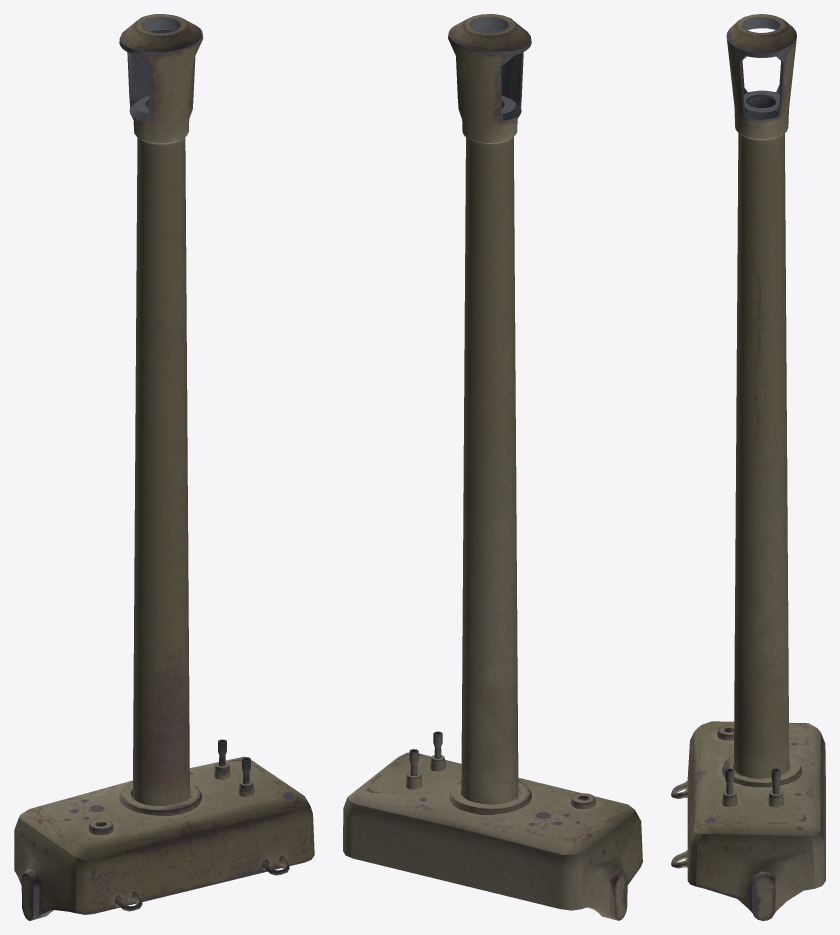
File: Gun_01.glb
The picture shows the model from 3 angles, left to right: view 1: azimuth 30°, elevation 25°; view 2: azimuth 150°, elevation 25°; view 3: azimuth 270°, elevation 25°; orthographic projection. The views are drawn at different scales.
Visible parts, largest first — view 1: set_0_group_0; view 2: set_0_group_0; view 3: set_0_group_0.
Boxes of the visible parts, x1,y1,x2,y2 form: set_0_group_0: [14, 14, 314, 920]; set_0_group_0: [343, 14, 642, 920]; set_0_group_0: [671, 14, 825, 920].
Size of the model in its own units: 1.58 by 4.9 by 0.8243.
1 material, 1 textured.
